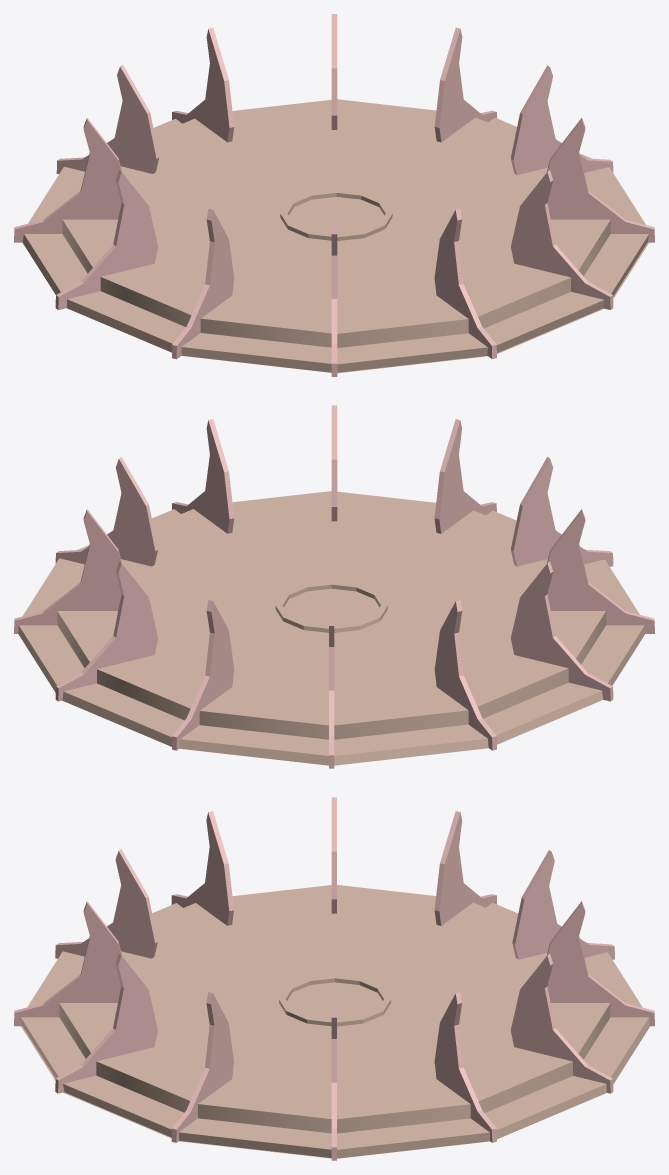
3 renders of one model, top to bottom at view 1: azimuth 30°, elevation 25°; view 2: azimuth 150°, elevation 25°; view 3: azimuth 270°, elevation 25°, orthographic.
Parts seen in each view (by area): view 1: Object41; view 2: Object41; view 3: Object41.
Part boxes in pixels (bbox=[...]): Object41: bbox=[14, 14, 654, 376]; Object41: bbox=[14, 405, 654, 768]; Object41: bbox=[14, 797, 654, 1160].
Size of the model in its own units: 752 by 160 by 751.
